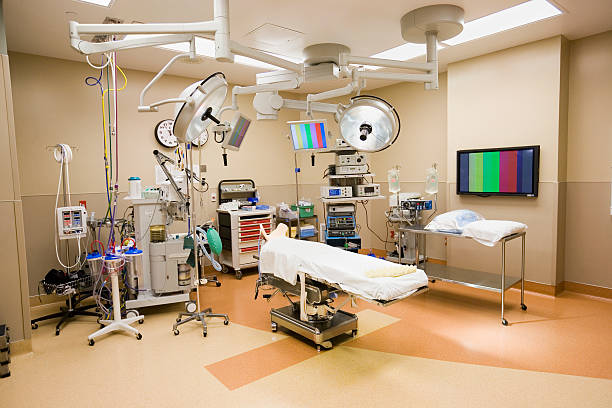TV: (455, 146, 540, 201)
bedside_monitor: (286, 117, 330, 157), (221, 110, 256, 154)
breathing_tube: (193, 225, 225, 271)
electrosurgical_unit: (326, 215, 356, 236)
iv_pole: (178, 138, 205, 310), (423, 159, 442, 216), (388, 164, 406, 218)
medical_drawer: (217, 177, 277, 281)
operating_bed: (255, 222, 429, 355)
surgical_light: (171, 71, 230, 146), (337, 97, 401, 152)
table: (395, 222, 527, 330)
ventilator: (119, 173, 203, 312)
